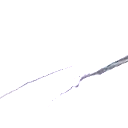crackTip: (1, 54, 128, 98)
